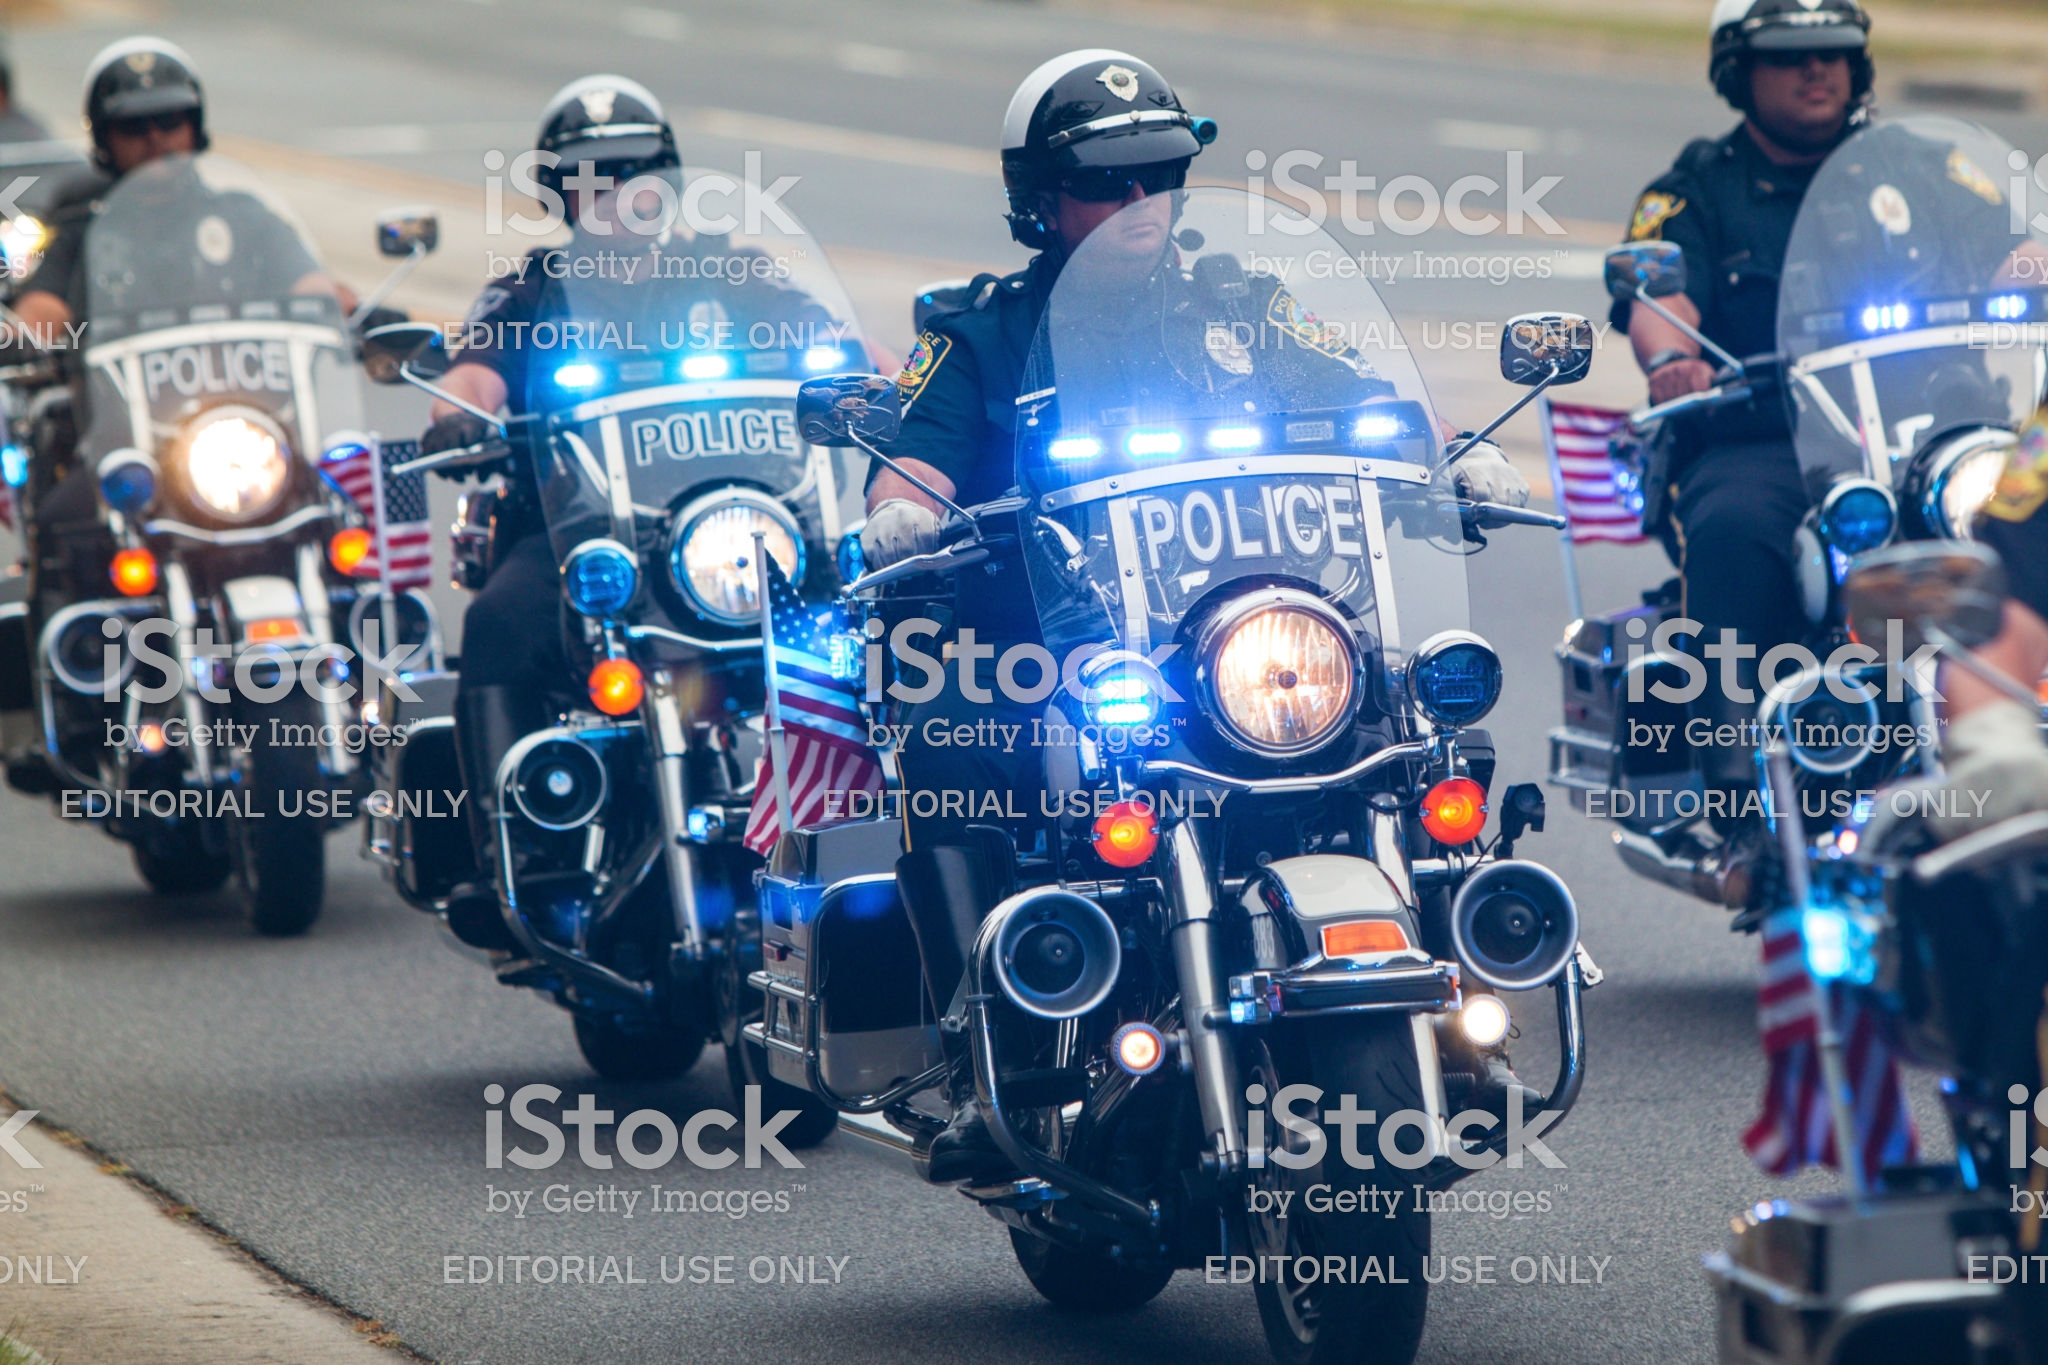helmet: (981, 46, 1171, 213), (78, 21, 227, 139), (531, 78, 687, 178)
